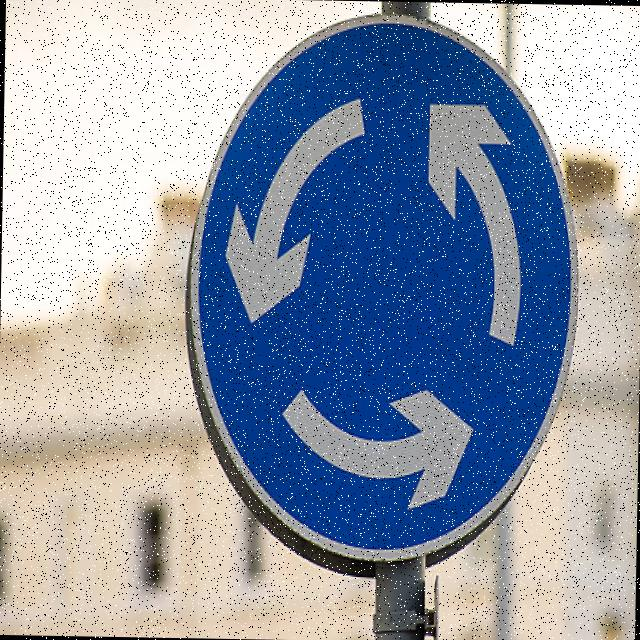round_about: (184, 4, 586, 566)
